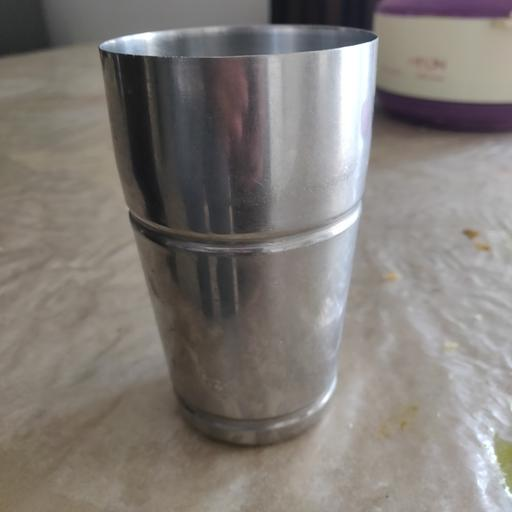glass-tumbler: (99, 24, 380, 450)
